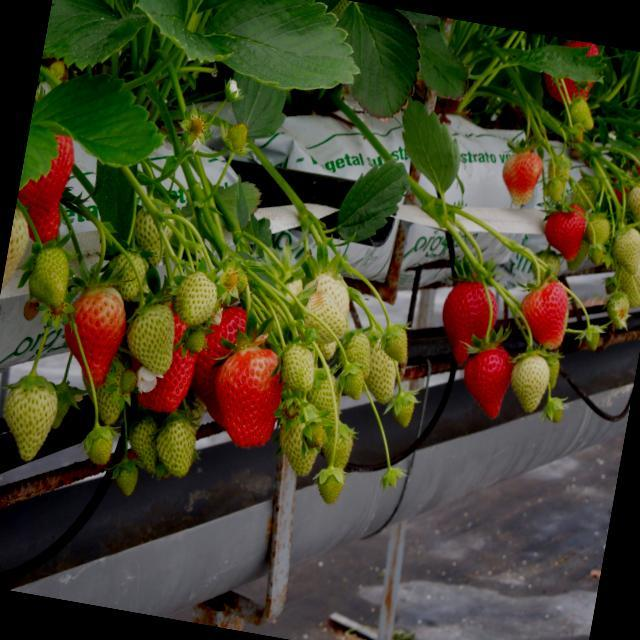ripe: (180, 304, 261, 431), (202, 340, 288, 453), (52, 283, 132, 393), (132, 311, 208, 414), (432, 273, 505, 372), (14, 115, 80, 224), (457, 340, 518, 416), (516, 278, 573, 351), (540, 200, 586, 264)
unripe: (294, 268, 355, 359), (74, 340, 136, 427), (0, 375, 59, 464), (122, 195, 180, 272), (122, 302, 178, 374), (270, 402, 324, 476), (146, 413, 204, 480), (293, 282, 354, 344), (22, 239, 74, 311), (0, 202, 34, 305), (168, 266, 220, 332), (497, 148, 548, 212), (99, 241, 151, 298), (359, 333, 400, 405), (506, 353, 551, 414), (120, 416, 167, 473), (274, 337, 320, 393), (318, 419, 357, 478), (304, 367, 344, 420), (80, 422, 118, 476), (339, 325, 377, 377), (612, 243, 640, 312), (314, 464, 349, 516), (563, 89, 601, 132), (109, 456, 145, 499), (534, 344, 568, 389), (376, 324, 414, 364), (610, 224, 640, 272), (582, 207, 616, 249), (220, 115, 251, 158), (540, 388, 570, 432), (389, 386, 418, 429), (580, 319, 604, 356), (300, 416, 327, 448), (553, 156, 575, 188), (586, 242, 604, 269)
